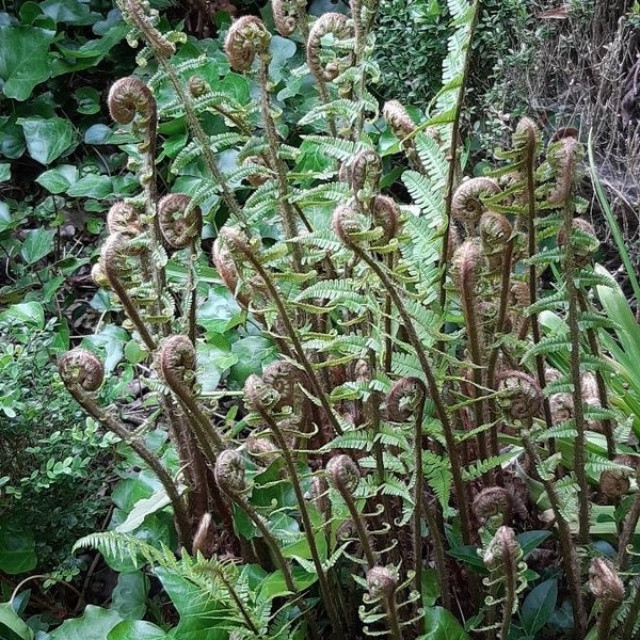obstacle: (77, 54, 509, 580)
